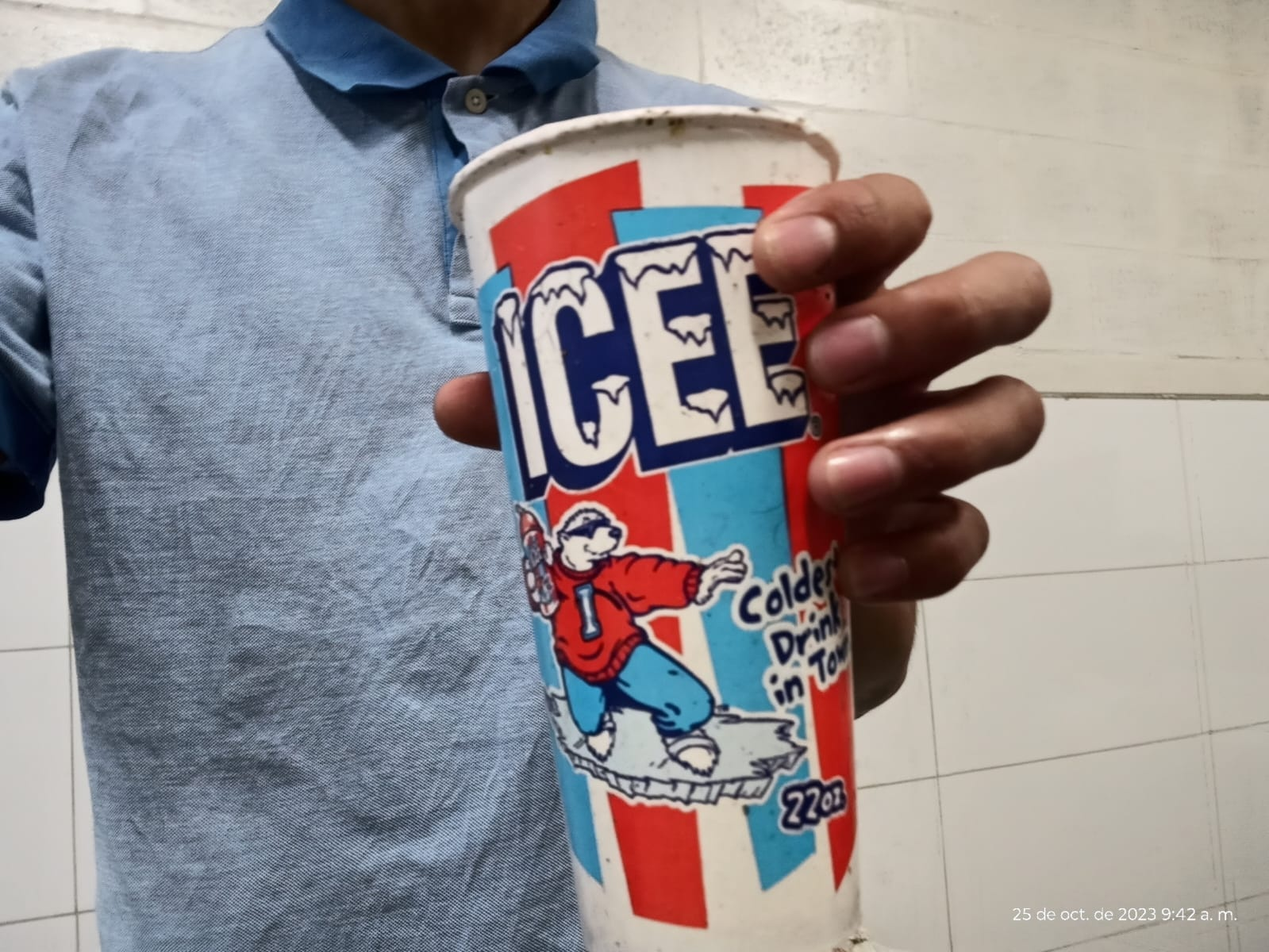Carton: (448, 106, 857, 952)
